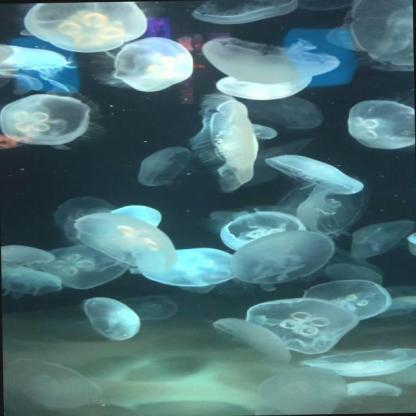jellyfish: (205, 34, 344, 85), (72, 209, 180, 274), (25, 1, 152, 53), (246, 298, 357, 355), (0, 89, 95, 150), (200, 97, 260, 191), (229, 229, 333, 283), (9, 356, 106, 413), (33, 238, 131, 291), (270, 153, 358, 210), (110, 36, 194, 93), (145, 244, 244, 291), (210, 314, 298, 366), (351, 0, 414, 72), (258, 367, 346, 415), (302, 276, 391, 320), (343, 98, 415, 152), (304, 344, 416, 378), (346, 217, 414, 263), (218, 209, 300, 247), (81, 296, 145, 344), (243, 93, 323, 131), (0, 37, 72, 78), (193, 0, 299, 27), (0, 253, 68, 294), (213, 74, 312, 102), (135, 142, 193, 188), (0, 241, 54, 268), (338, 381, 404, 400), (127, 301, 180, 322), (244, 122, 278, 140), (411, 228, 415, 258)
